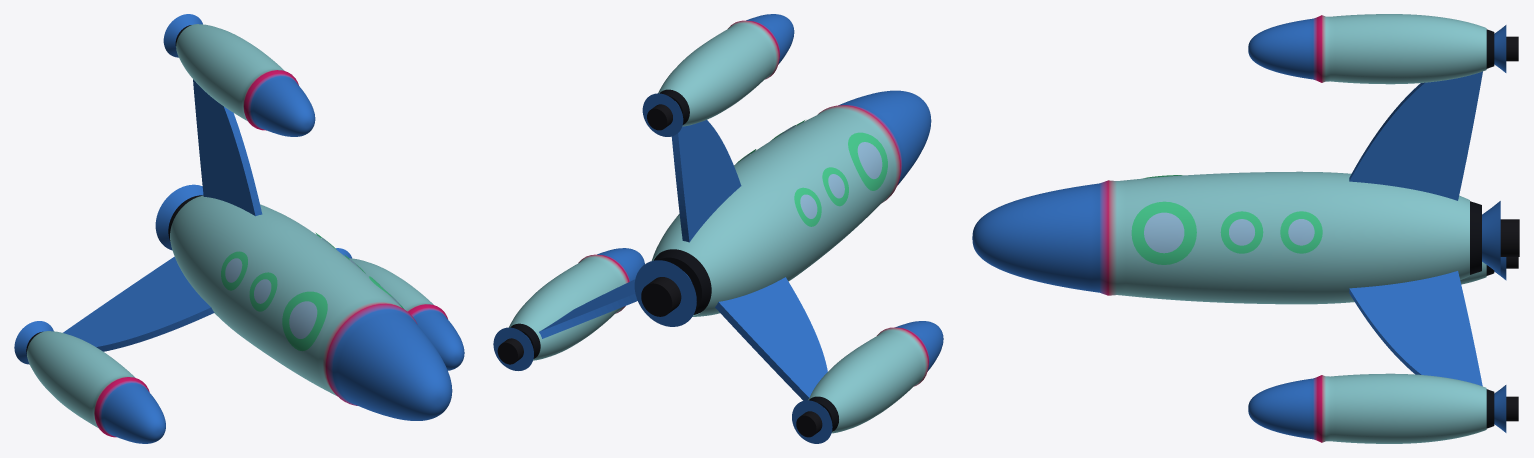
File: rocket-1.obj
3 views of the same model, side by side, from view 1: azimuth 30°, elevation 25°; view 2: azimuth 150°, elevation 25°; view 3: azimuth 270°, elevation 25° (orthographic). The views are drawn at different scales.
Visible parts, largest first — view 1: rocket; view 2: rocket; view 3: rocket.
Boxes of the visible parts, box(x1,y1,x2,y2) form: rocket: box(14, 14, 464, 443); rocket: box(493, 14, 943, 443); rocket: box(972, 14, 1519, 443).
Bounding box in the file's own units: 134 × 119 × 170.
